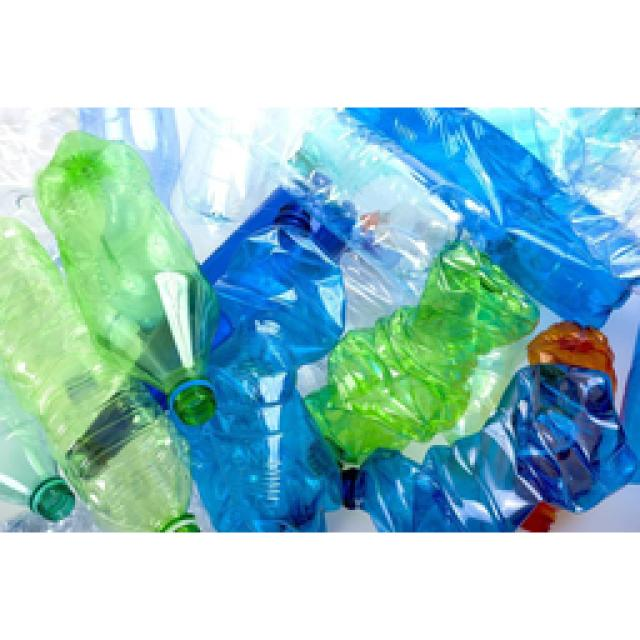plastic_water_bottles: (53, 158, 237, 428)
